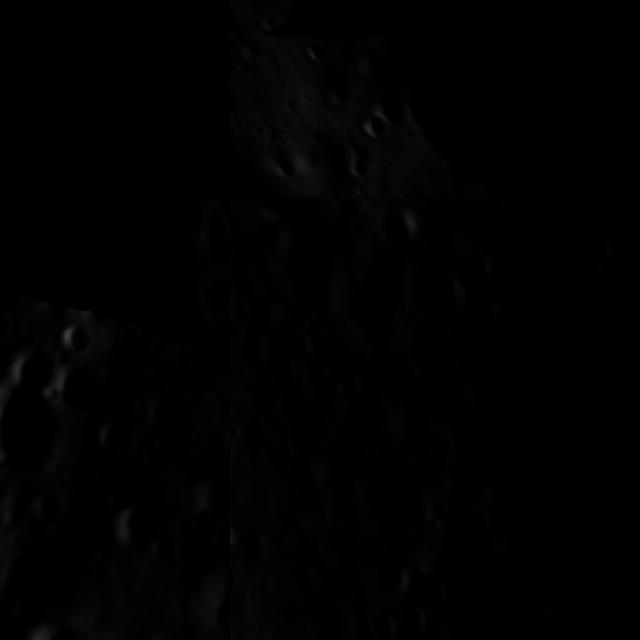crater: (385, 0, 640, 198), (377, 225, 497, 351), (26, 486, 136, 593), (0, 376, 75, 502), (104, 198, 212, 269), (0, 531, 73, 626), (264, 208, 338, 282), (354, 542, 428, 616), (102, 485, 166, 567), (57, 209, 125, 286), (0, 232, 66, 306), (268, 436, 335, 507), (179, 551, 230, 640), (2, 341, 68, 404), (46, 362, 109, 428), (425, 558, 486, 624), (600, 273, 640, 366), (230, 324, 285, 383), (88, 413, 142, 471), (184, 473, 230, 532), (24, 606, 103, 640), (0, 483, 48, 538), (136, 391, 187, 438), (51, 318, 98, 368), (133, 437, 173, 478), (340, 134, 374, 178), (0, 0, 55, 27), (230, 502, 251, 567), (175, 378, 210, 414), (356, 105, 387, 144), (300, 27, 328, 62), (0, 347, 20, 396), (233, 166, 257, 198)
